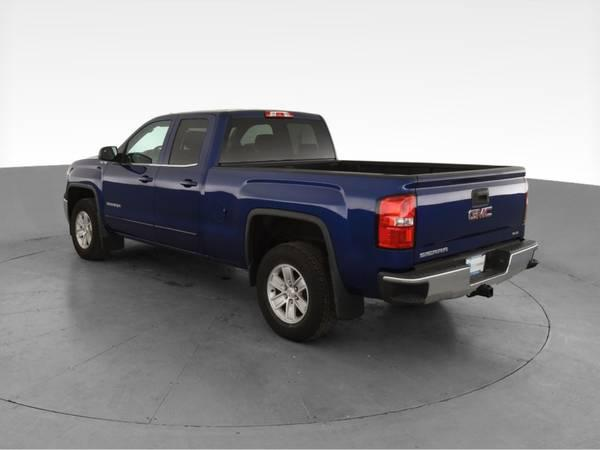Front_Fender: (64, 158, 105, 223)
Front_Left_Door: (104, 163, 161, 241)
Front_Left_Window: (115, 118, 180, 166)
Left_Taillight: (379, 192, 417, 247)
Rear_Bumper: (380, 232, 544, 299)
Rear_Fender: (204, 163, 423, 294)
Rear_Left_Door: (158, 163, 214, 253)
Rear_Left_Window: (163, 114, 212, 166)
Rear_Windshield: (212, 109, 342, 162)
Roof: (116, 109, 226, 166)
Tailgate: (415, 168, 528, 270)
Wheel: (253, 237, 333, 341), (69, 201, 104, 262)
